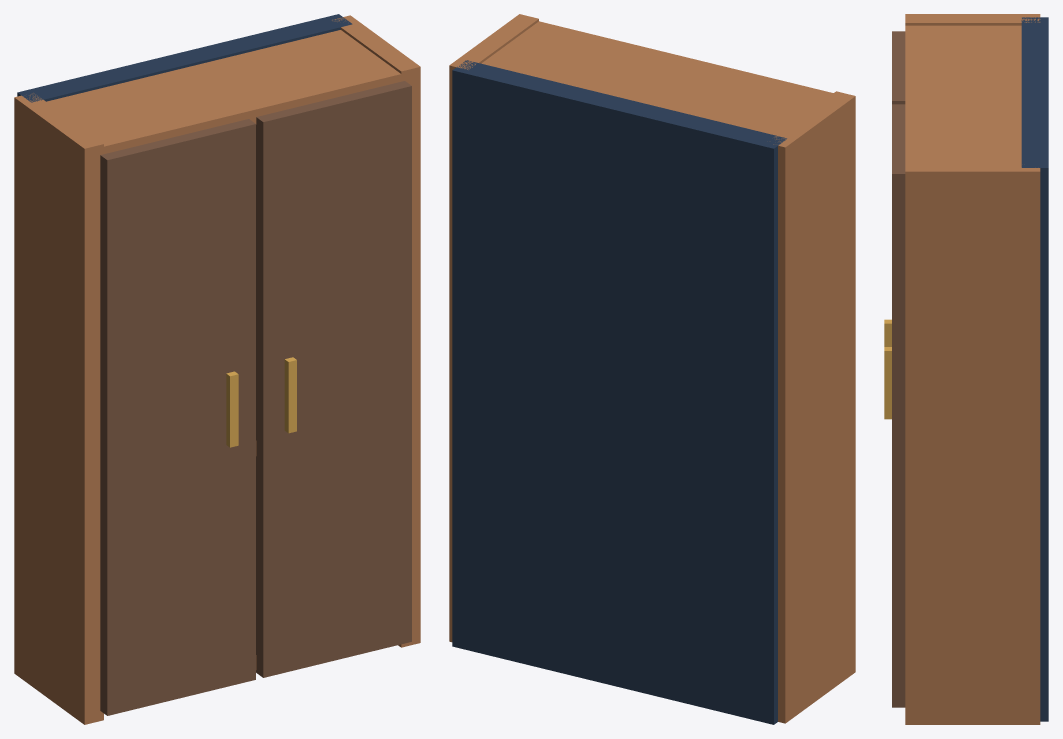
File: wardrobe.glb
3 views of the same model, side by side, from view 1: azimuth 30°, elevation 25°; view 2: azimuth 150°, elevation 25°; view 3: azimuth 270°, elevation 25° (orthographic). The views are drawn at different scales.
Parts seen in each view (by area): view 1: wardrobe_left_wood, wardrobe_right_wood, root_copper, root_navy, wardrobe_right_gold, wardrobe_left_gold; view 2: root_navy, root_copper; view 3: root_copper, root_navy, wardrobe_right_wood, wardrobe_left_wood, wardrobe_right_gold.
Part boxes in pixels (left/top/right/bottom): wardrobe_left_wood: left=100, top=119, right=255, bottom=715; wardrobe_right_wood: left=256, top=81, right=411, bottom=677; root_copper: left=14, top=15, right=420, bottom=724; root_navy: left=17, top=14, right=352, bottom=102; wardrobe_right_gold: left=284, top=357, right=296, bottom=433; wardrobe_left_gold: left=226, top=371, right=238, bottom=447; root_navy: left=452, top=60, right=786, bottom=724; root_copper: left=449, top=14, right=855, bottom=723; root_copper: left=905, top=14, right=1040, bottom=724; root_navy: left=1021, top=17, right=1048, bottom=721; wardrobe_right_wood: left=892, top=104, right=905, bottom=707; wardrobe_left_wood: left=892, top=31, right=905, bottom=104; wardrobe_right_gold: left=884, top=347, right=891, bottom=419.
Bounding box in the file's own units: 1.38 × 2.26 × 0.6075.
